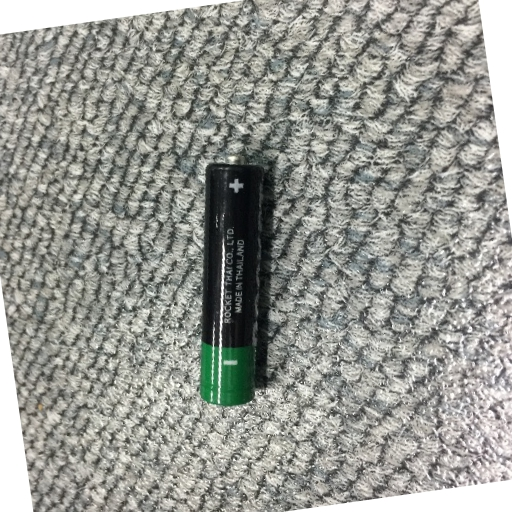Battery_0: (188, 146, 281, 408)
